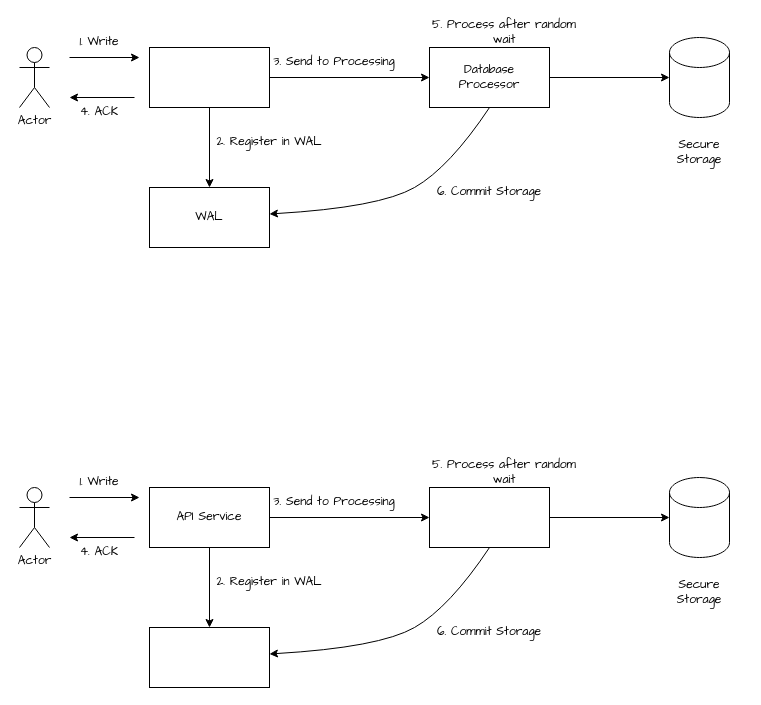
Some shapes in this 761 by 705 pixel diagram are drawn without their labels. The centre of each missing label's shape, as x and y in pixels:
Backend Systems: point 489,517
Database: point 209,77
Storage / Message queue: point 209,657
